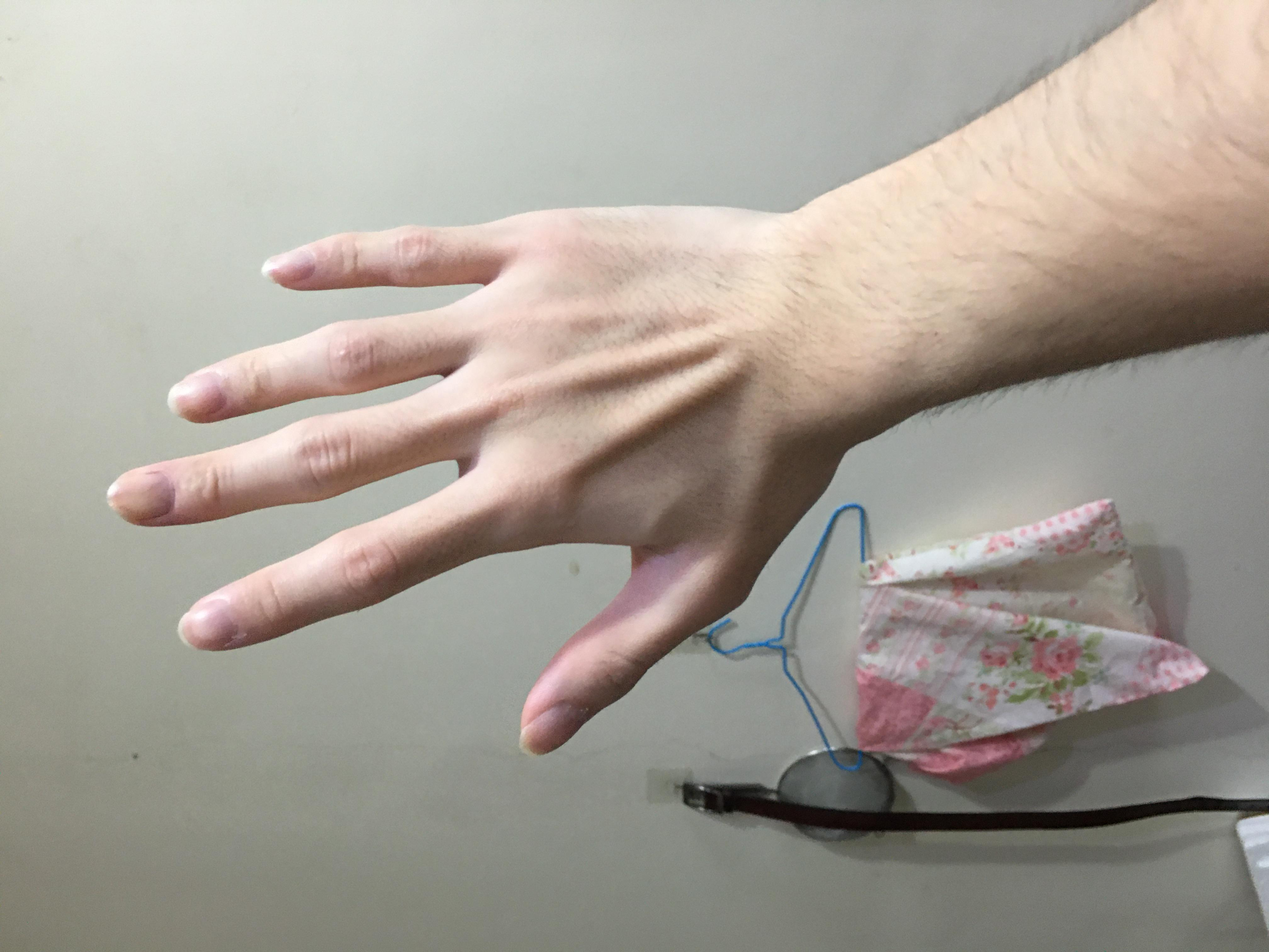palm: (260, 78, 1002, 604)
